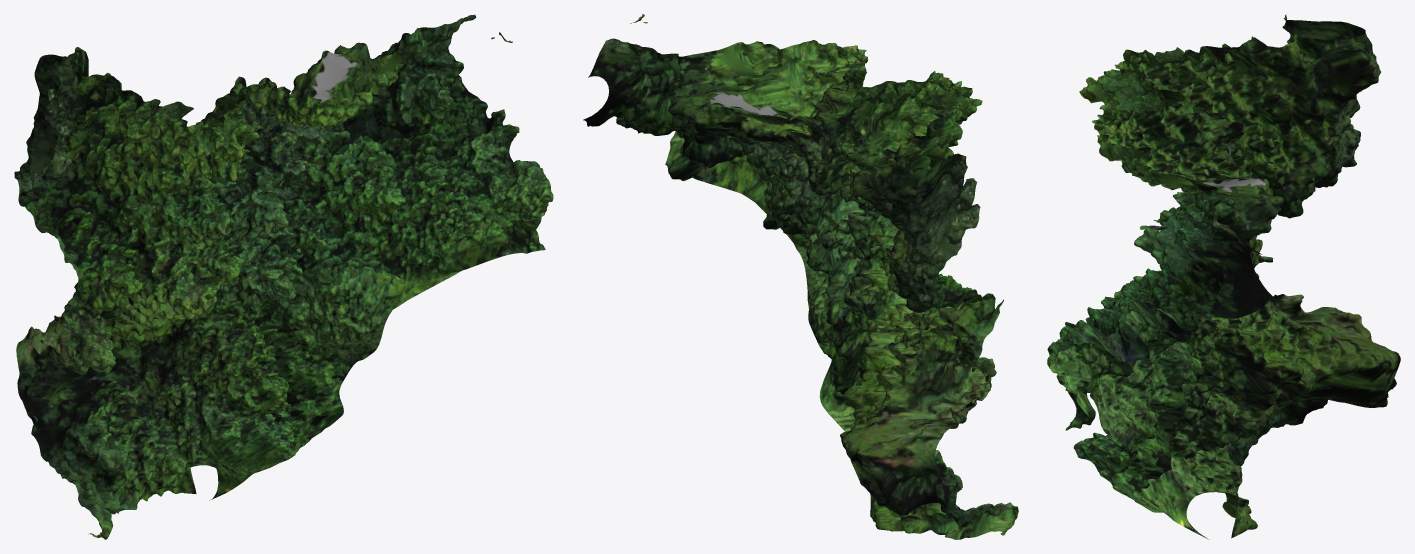
Rendered from Tile_+023_+007.fbx.
3 renders of one model, left to right at view 1: azimuth 30°, elevation 25°; view 2: azimuth 150°, elevation 25°; view 3: azimuth 270°, elevation 25°, orthographic. The views are drawn at different scales.
Parts seen in each view (by area): view 1: DefaultName; view 2: DefaultName; view 3: DefaultName.
Part boxes in pixels (<box>): DefaultName: <box>14,14,553,539</box>; DefaultName: <box>583,14,1018,539</box>; DefaultName: <box>1047,14,1400,539</box>.
Size of the model in its own units: 22.54 by 22.54 by 15.76.
